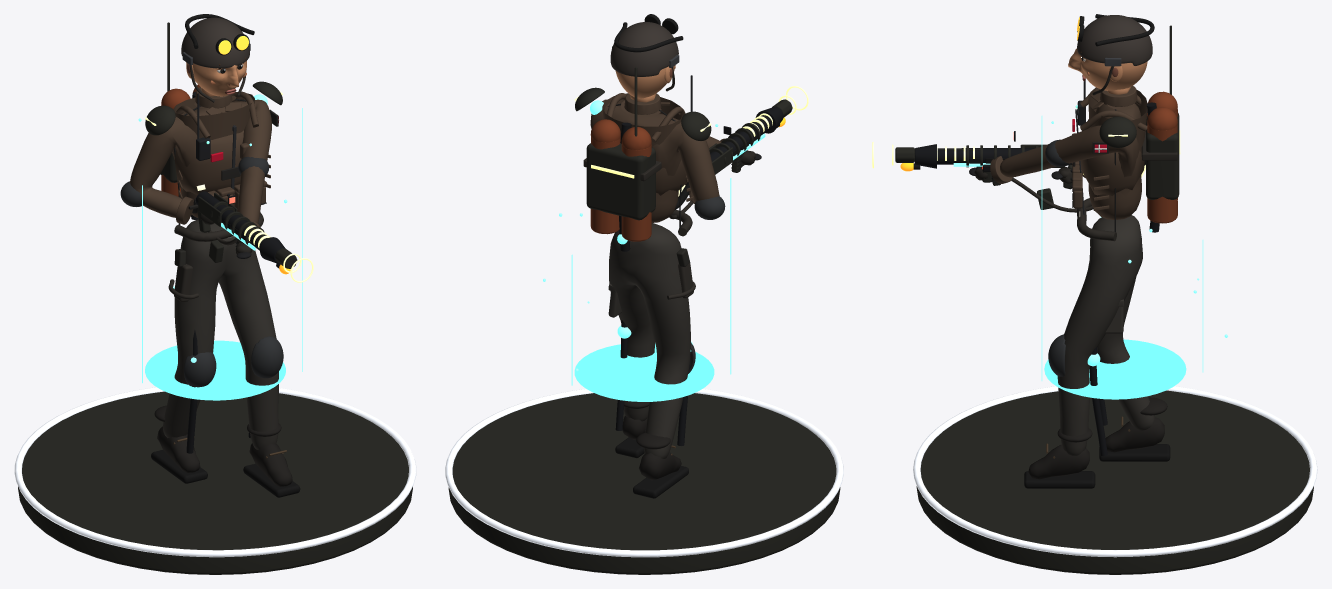
File: braender_std.glb
The picture shows the model from 3 angles, left to right: view 1: azimuth 30°, elevation 25°; view 2: azimuth 150°, elevation 25°; view 3: azimuth 270°, elevation 25°; orthographic projection.
Parts seen in each view (by area): view 1: fod_net, menneske_net, op1_net, hoved_net, op4.002_net, vaaben_net, op3.001_net, op3_net, op4.001_net, op4_net; view 2: fod_net, menneske_net, op3.001_net, op4.002_net, hoved_net, op1_net, vaaben_net, op4.001_net, op4_net, op3_net; view 3: fod_net, menneske_net, op4.002_net, hoved_net, op1_net, op3.001_net, vaaben_net, op4.001_net.
Boxes of the visible parts, x1,y1,x2,y2 form: fod_net: (14,387,416,574); menneske_net: (130,84,300,497); op1_net: (120,91,283,387); hoved_net: (181,14,254,102); op4.002_net: (138,108,302,400); vaaben_net: (192,191,290,274); op3.001_net: (145,22,282,182); op3_net: (196,184,297,268); op4.001_net: (186,91,267,453); op4_net: (221,223,313,282); fod_net: (445,389,843,574); menneske_net: (583,93,761,498); op3.001_net: (574,67,711,220); op4.002_net: (543,124,731,401); hoved_net: (610,14,683,98); op1_net: (607,75,725,373); vaaben_net: (674,107,785,210); op4.001_net: (590,100,692,445); op4_net: (678,86,808,196); op3_net: (709,99,792,174); fod_net: (913,386,1317,574); menneske_net: (969,86,1177,488); op4.002_net: (1041,116,1227,399); hoved_net: (1068,14,1154,95); op1_net: (1045,81,1147,376); op3.001_net: (1099,25,1180,199); vaaben_net: (900,144,1145,189); op4.001_net: (1087,102,1159,456).
Size of the model in its own units: 1.94 by 2.51 by 2.13.
